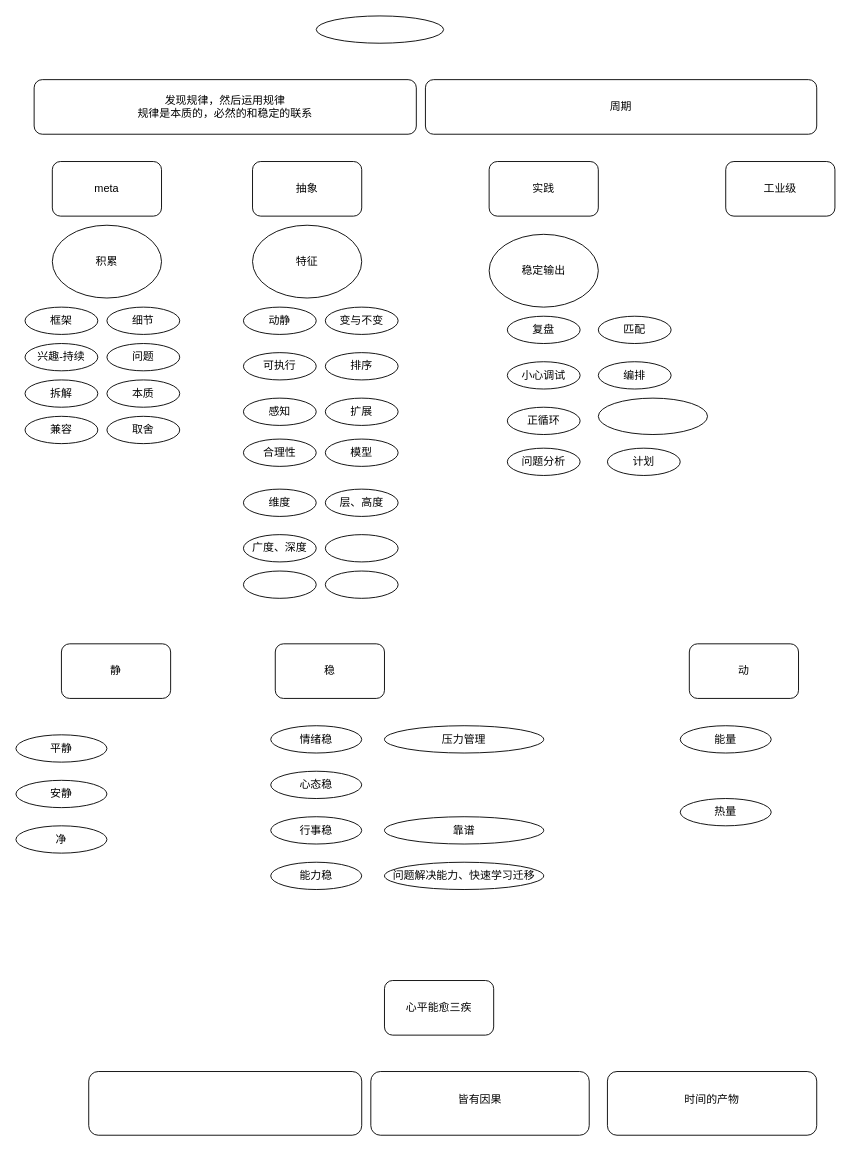
Image size: 851x1151. Some labels were removed from this diagram. Each missing label, with the box of its shape:
时间: (315, 15, 444, 43)
类似同花顺一样，可操作性、闹钟、顺序: (597, 397, 708, 435)
道生一、一生二、二生三、三生万物: (88, 1071, 362, 1135)
